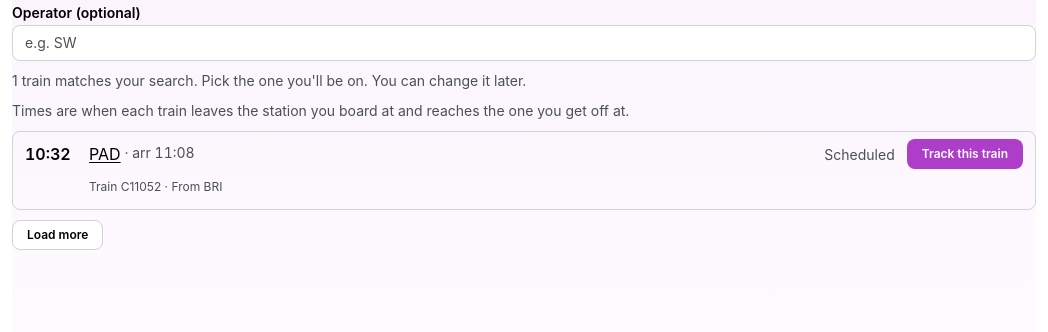
Test case: JourneyLegCandidates › pagination › appends the second page to the first rather than replacing it, sending after=
Click the button "Load more" at coordinates (58, 235), box top-left (12, 220), bottom-right (103, 250)
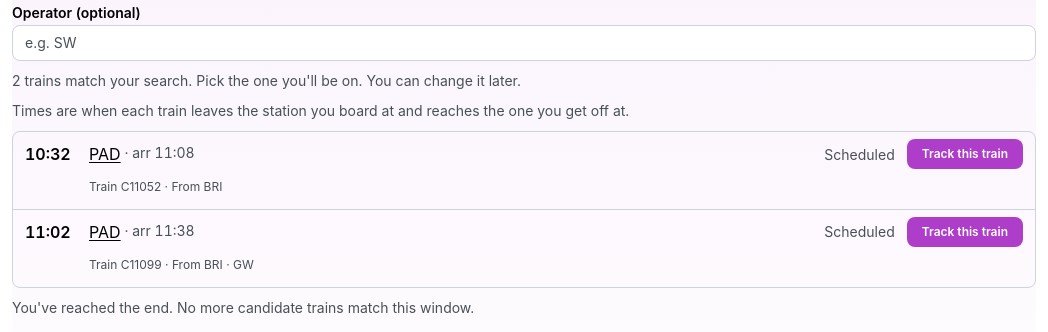
Check: the button "Load more" is gone
Check: the text "You've reached the end. No more candidate trains match this window." is shown, box top-left (12, 299), bottom-right (474, 316)
